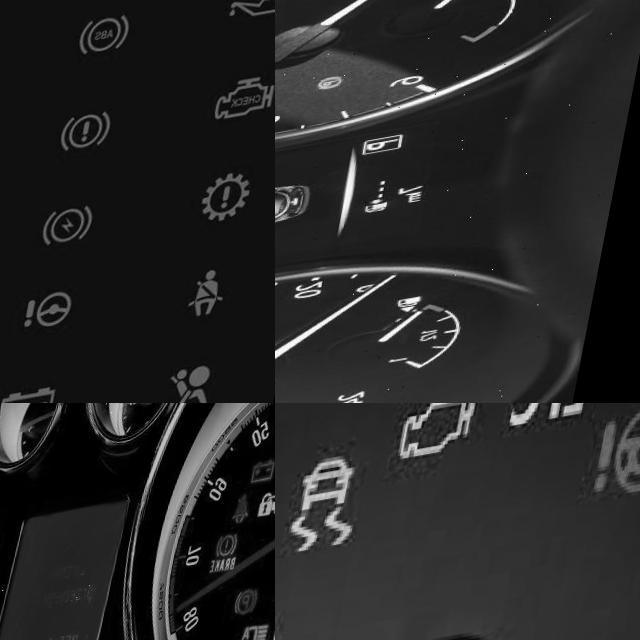Electronic Power Steering: (605, 415, 640, 522), (37, 303, 96, 350)
Electronic Power Steering Warning: (275, 18, 281, 39)
Seat Belt: (205, 285, 251, 340), (243, 509, 263, 545)
